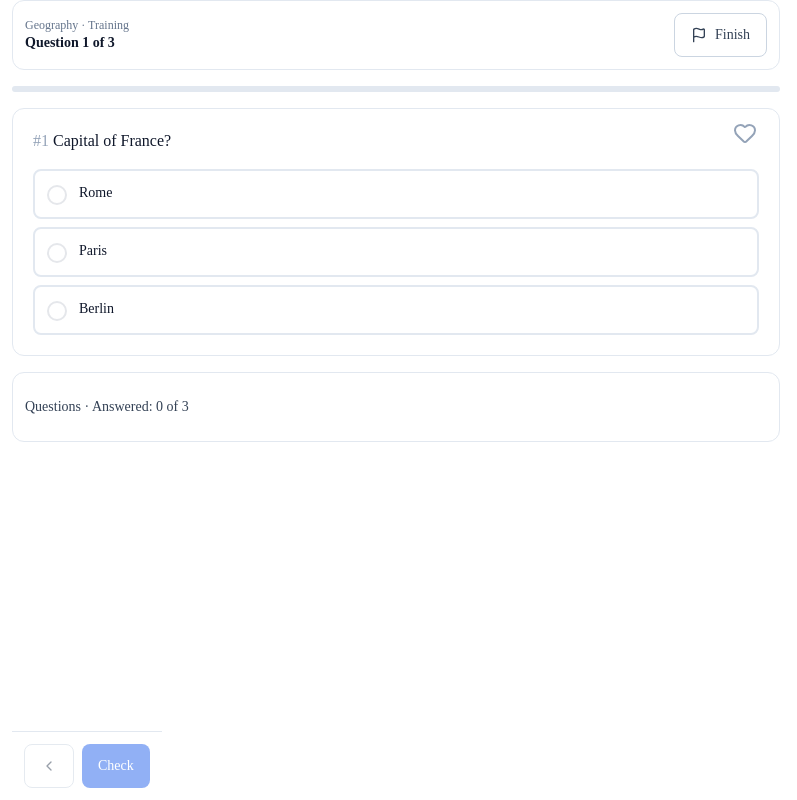
training › locks the answer after checking
Click the radio button labelled "Rome": [96, 192] box [33,169,759,219]
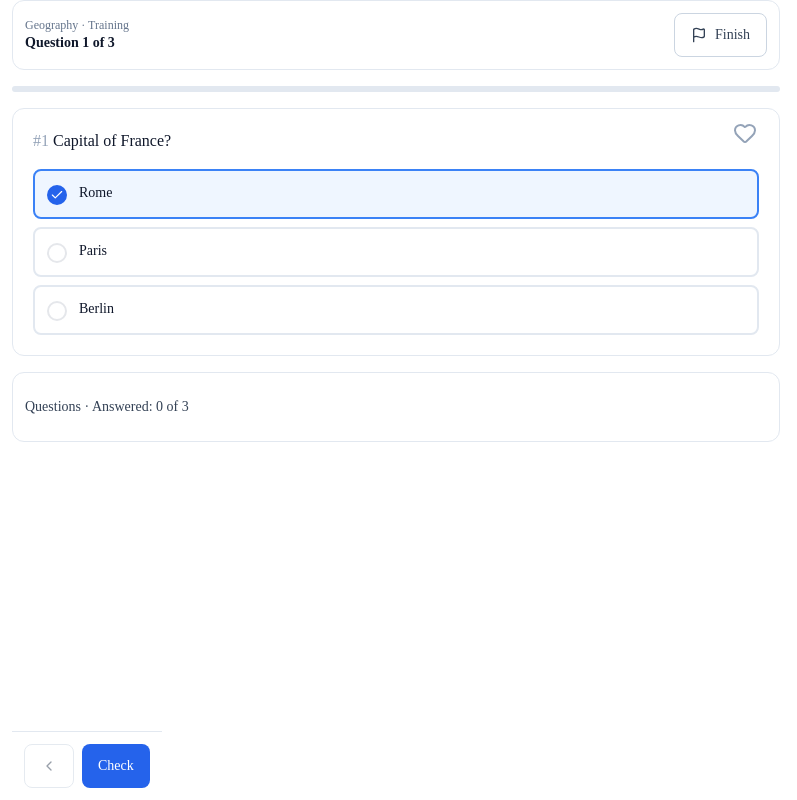
Click the button "Check": [116, 766] box [82,744,150,788]
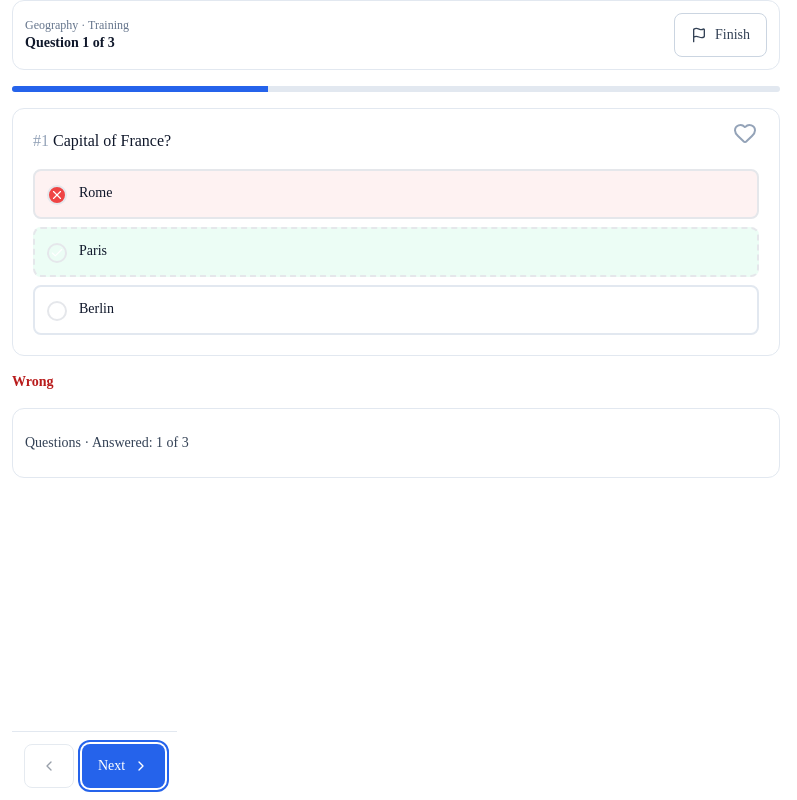
Now the radio button labelled "Rome" is disabled, box [33,169,759,219]
